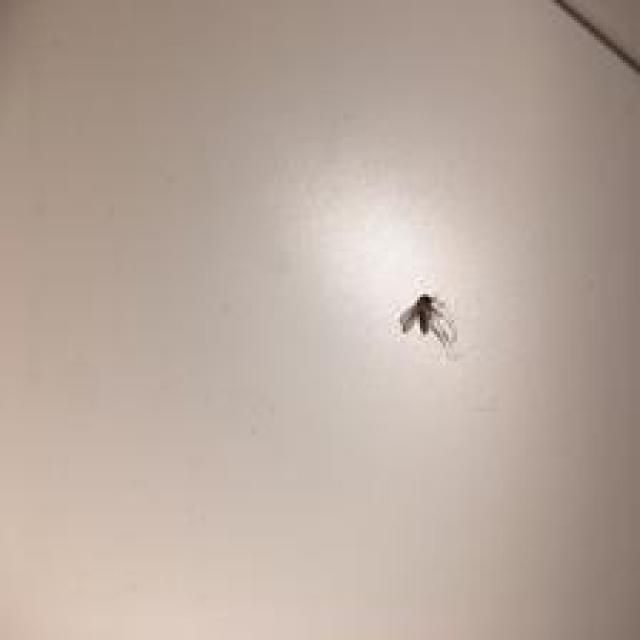Culex: (397, 293, 457, 350)
